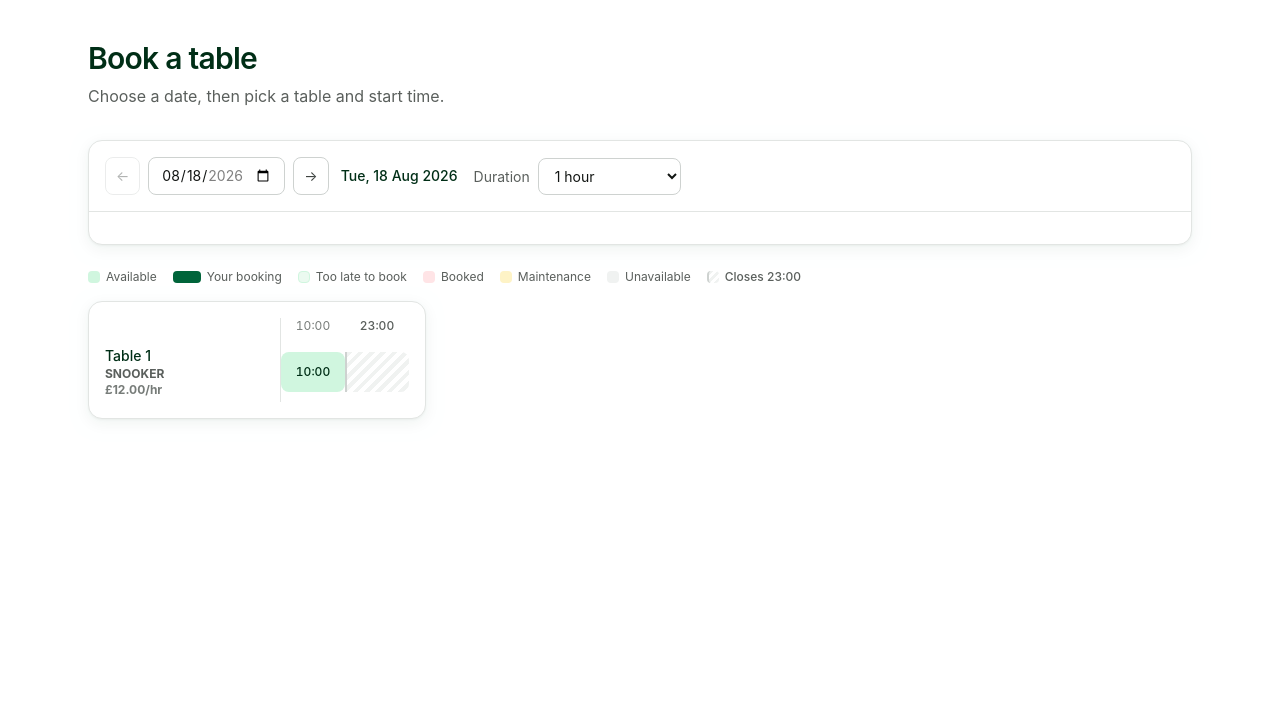
it: BookPage › shows the start and end time of the booking, not just the start
Click the button "10:00" at (313,372), box [281, 352, 345, 392]
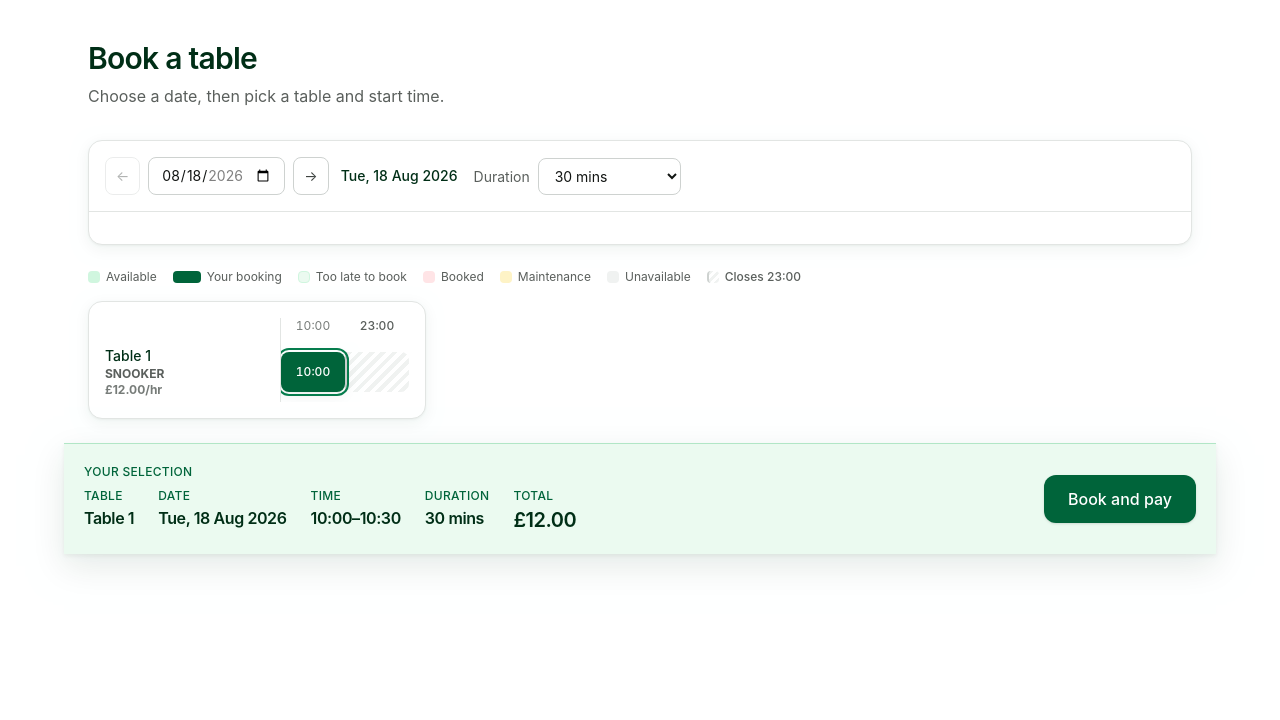
Select "1 hour" in the dropdown labelled "Duration" at (609,176), box [538, 158, 681, 194]
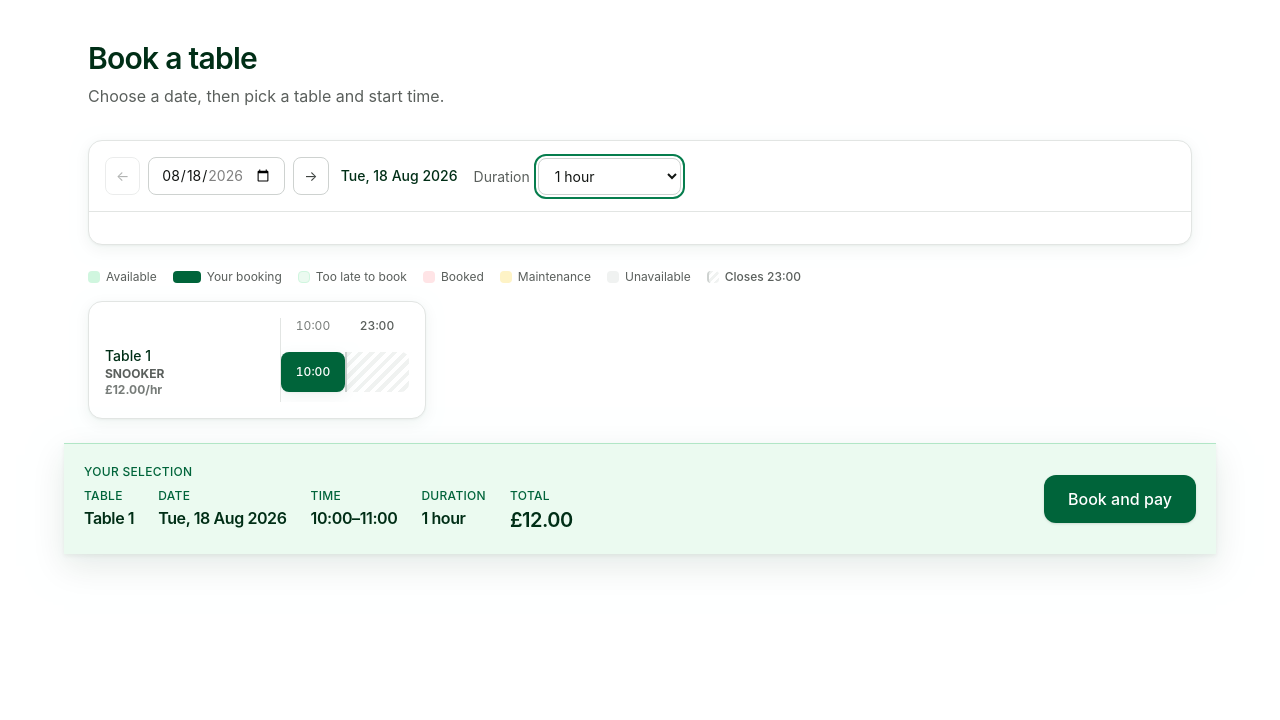
Check: the element that starts with "Your selection" shows "£12.00", box [510, 508, 573, 532]
Check: the element that starts with "Your selection" shows "10:00–11:00", box [310, 508, 397, 528]
Check: the element that starts with "Your selection" shows "1 hour", box [421, 508, 466, 528]
